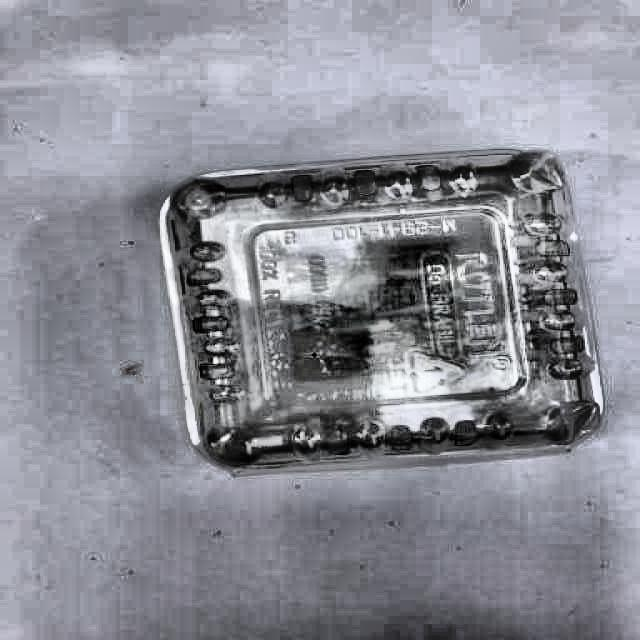plastic: (161, 151, 603, 473)
